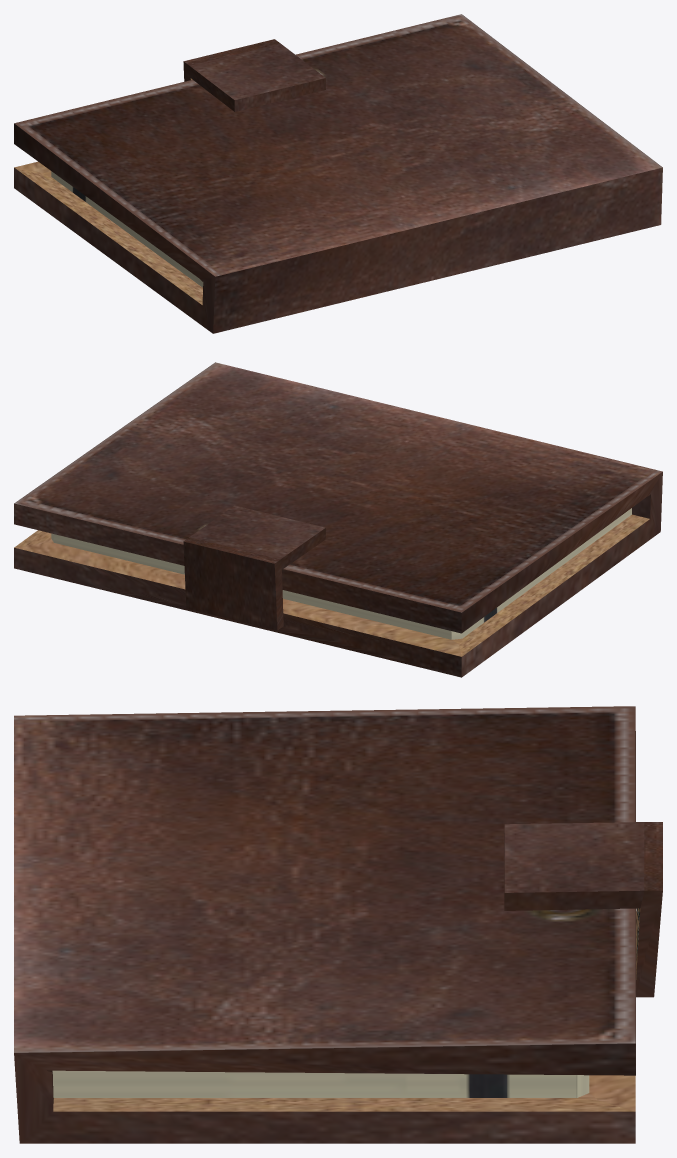
The model's file is ps1_leather_notebook_closed.fbx.
3 renders of one model, top to bottom at view 1: azimuth 30°, elevation 25°; view 2: azimuth 150°, elevation 25°; view 3: azimuth 270°, elevation 25°, orthographic. The views are drawn at different scales.
Visible parts, largest first — view 1: Cube; view 2: Cube; view 3: Cube.
Part boxes in pixels (box(x1,y1,x2,y2)): Cube: box(14, 14, 662, 333); Cube: box(14, 362, 662, 677); Cube: box(14, 706, 662, 1143).
Size of the model in its own units: 200 by 32.82 by 163.
